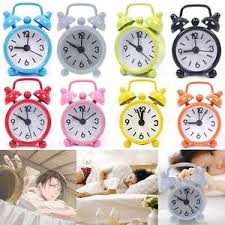alarm_clock: (0, 4, 223, 144)
